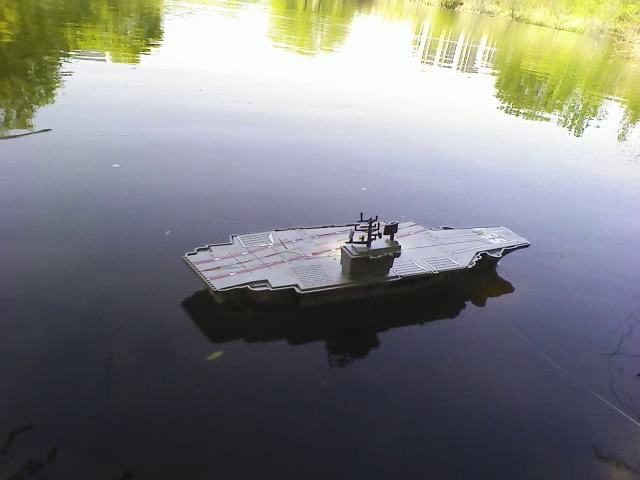aircraft_carrier: (182, 213, 535, 307)
